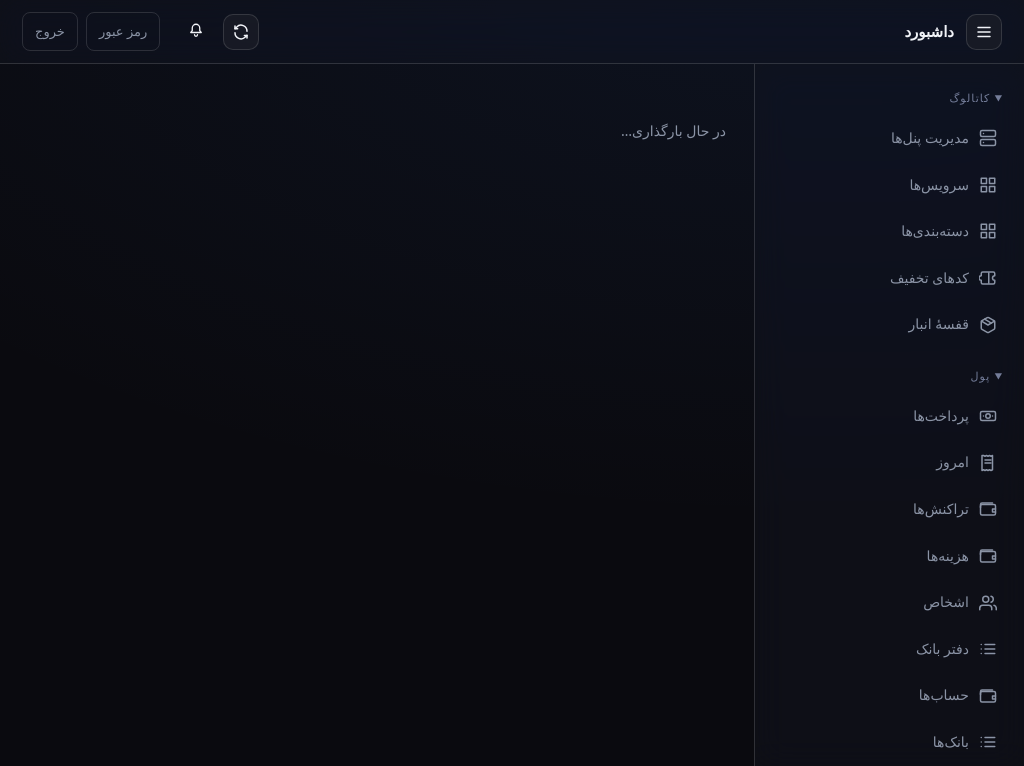
Test: one panel › leaves the hub with no second way to change section
This screenshot has width=1024, height=766.
(page scrolled)
Click the button "پرداخت‌ها".
click(890, 416)  # box [769,393,1010,439]
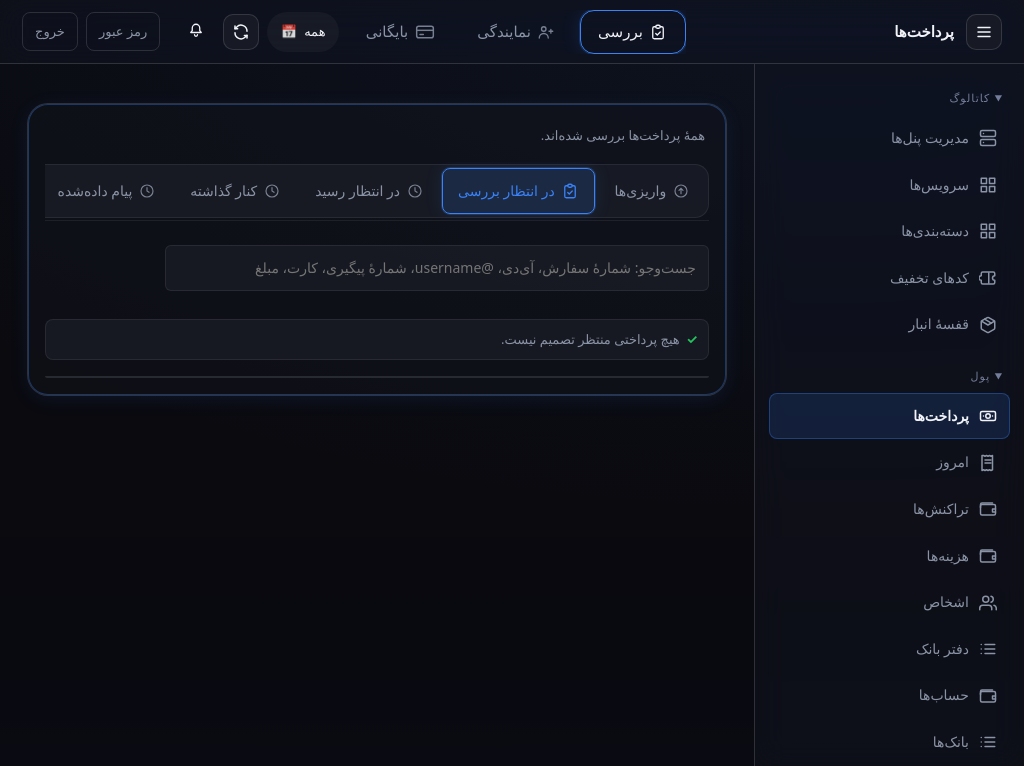
Expected: the button named "تازه‌سازی همهٔ نماها" is shown, [223,14,259,50]
Expected: the element named "بخش‌های پرداخت" is shown, [347,10,686,54]
